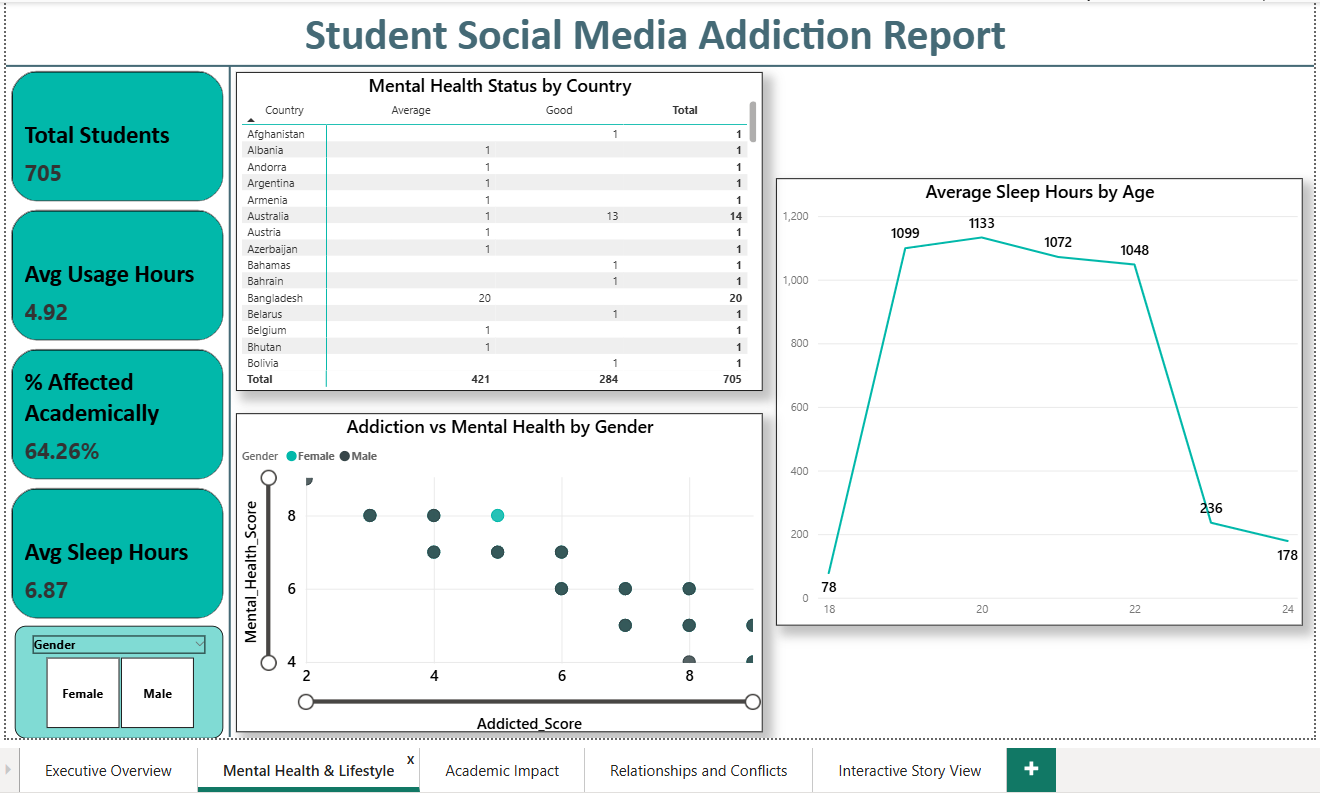

Layout of this report page (visuals, bound fields, positions):
{"tool":"powerbi","page":{"name":"Mental Health & Lifestyle","canvas":[1280,720],"ordinal":1},"visuals":[{"type":"textbox","box":[0,0,1280.3,63.6],"z":0},{"type":"shape","box":[0,56.2,1280,12.5],"z":1000},{"type":"shape","box":[212.8,62.4,12.2,656.7],"z":2000},{"type":"cardVisual","fields":{"Data":["CountNonNull(Student_details.Student_ID)","Platform_Details.Avg Usage Hours","Platform_Details.% Affected Academically","Student_details.Avg Sleep Hours"]},"box":[0,62.4,218.9,547.8],"z":3000},{"type":"pivotTable","title":"Mental Health Status by Country","fields":{"Rows":["Student_details.Country"],"Columns":["Student_details.Health Band"],"Values":["CountNonNull(Student_details.Student_ID)"]},"box":[225,68.5,514.8,311.8],"z":4000},{"type":"scatterChart","title":"Addiction vs Mental Health by Gender","fields":{"Y":["Student_details.Mental_Health_Score"],"X":["Student_details.Addicted_Score"],"Series":["Student_details.Gender"]},"box":[225,402.3,514.8,311.8],"z":5000},{"type":"lineChart","title":"Average Sleep Hours by Age","fields":{"Y":["Sum(Student_details.Sleep_Hours_Per_Night)"],"Category":["Student_details.Age"]},"box":[753.3,172.4,514.8,437.8],"z":6000},{"type":"slicer","fields":{"Values":["Student_details.Gender"]},"box":[8.6,610.2,204.2,110.1],"z":7000}]}

Visuals, with their boxes on the page's 1280x720 design canvas (x1, y1, x2, y2). These are canvas units, not pixel positions in the 1320x793 screenshot, which may show the page scaled, cropped or inside an application window:
textbox: 0,0,1280,64
shape: 0,56,1280,69
shape: 213,62,225,719
cardVisual - CountNonNull(Student_details.Student_ID) x Platform_Details.Avg Usage Hours: 0,62,219,610
"Mental Health Status by Country" pivotTable: 225,68,740,380
"Addiction vs Mental Health by Gender" scatterChart: 225,402,740,714
"Average Sleep Hours by Age" lineChart: 753,172,1268,610
slicer - Student_details.Gender: 9,610,213,720
